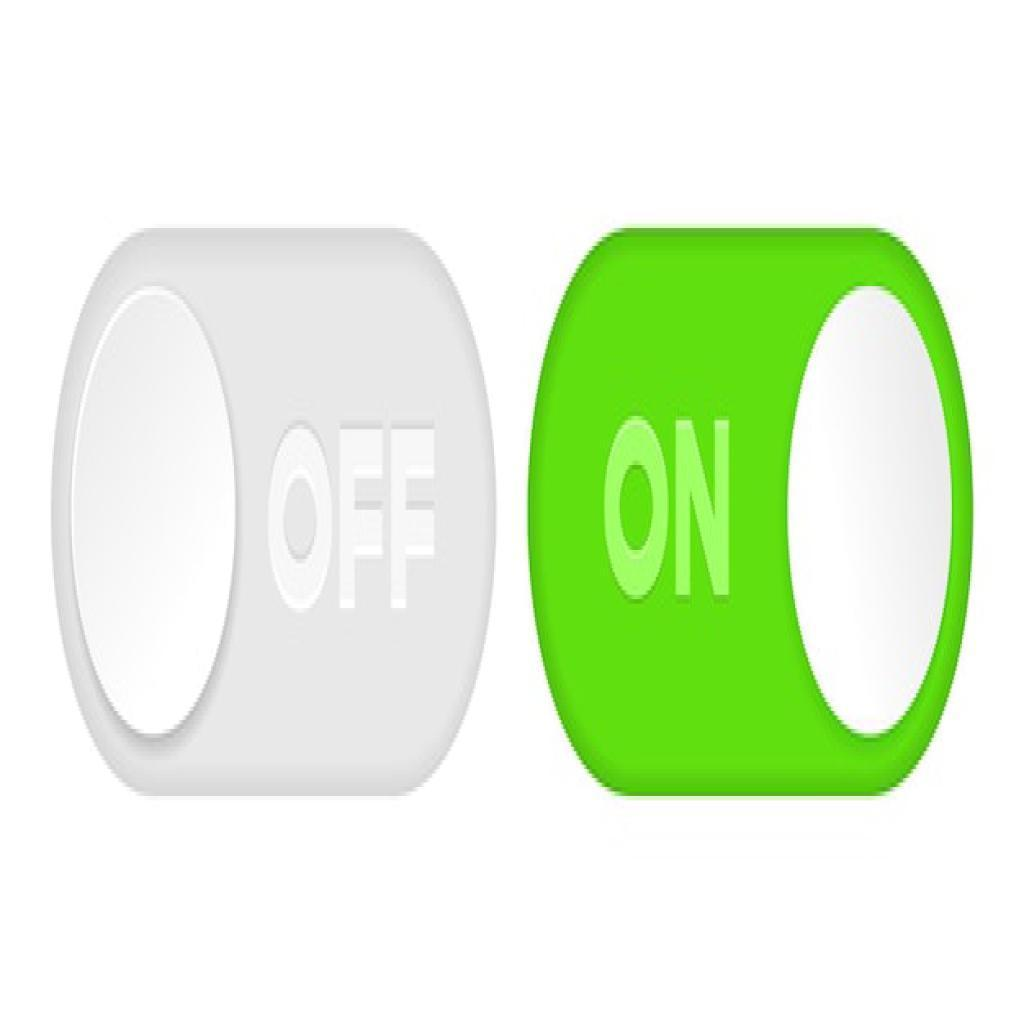switch: (45, 211, 511, 817), (535, 220, 983, 802)
